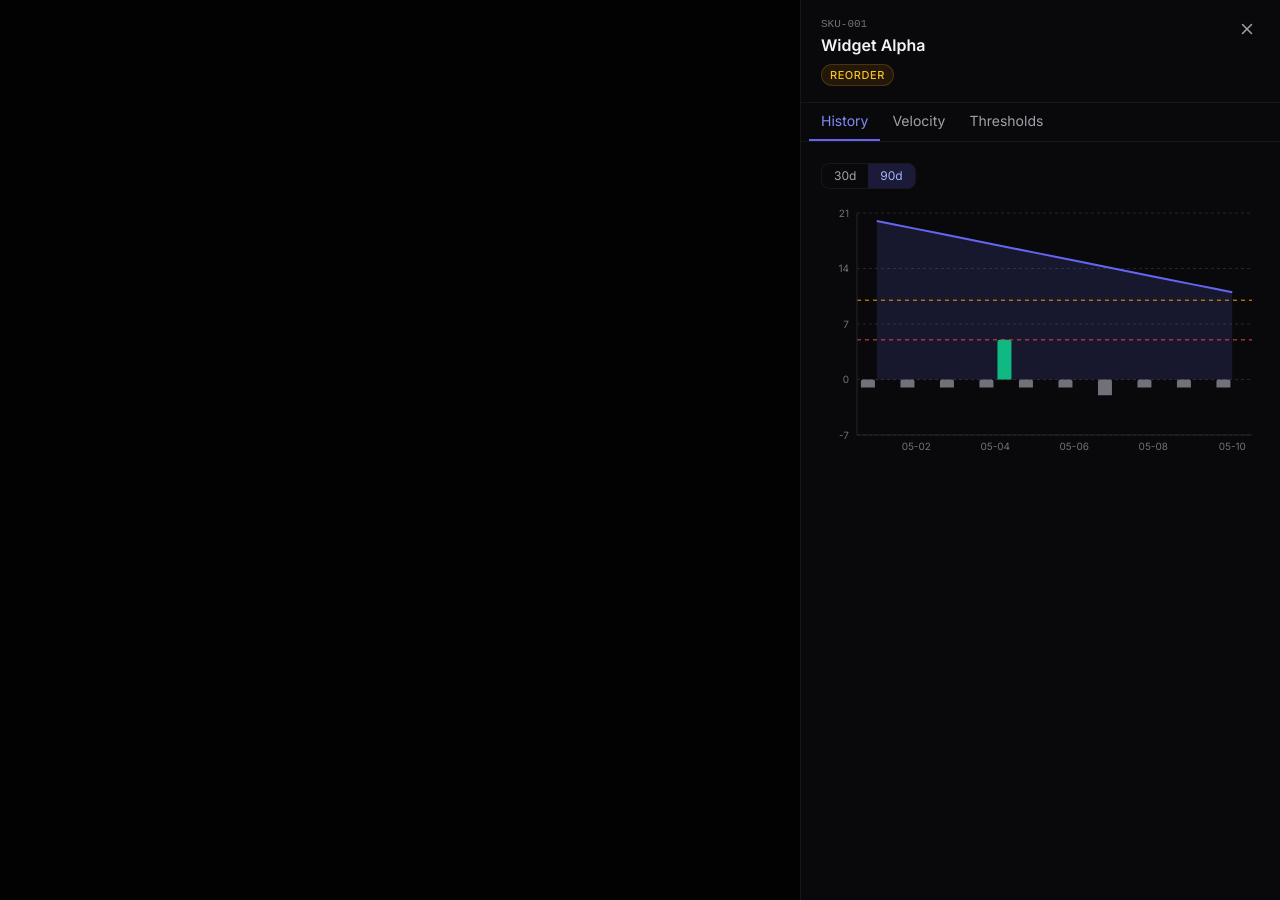
Test: ProductDrawer › Thresholds tab › shows inline error when reorder > max and disables save
The image size is (1280, 900).
Click the tab "Thresholds" at (1006, 122), box [957,103,1055,141]
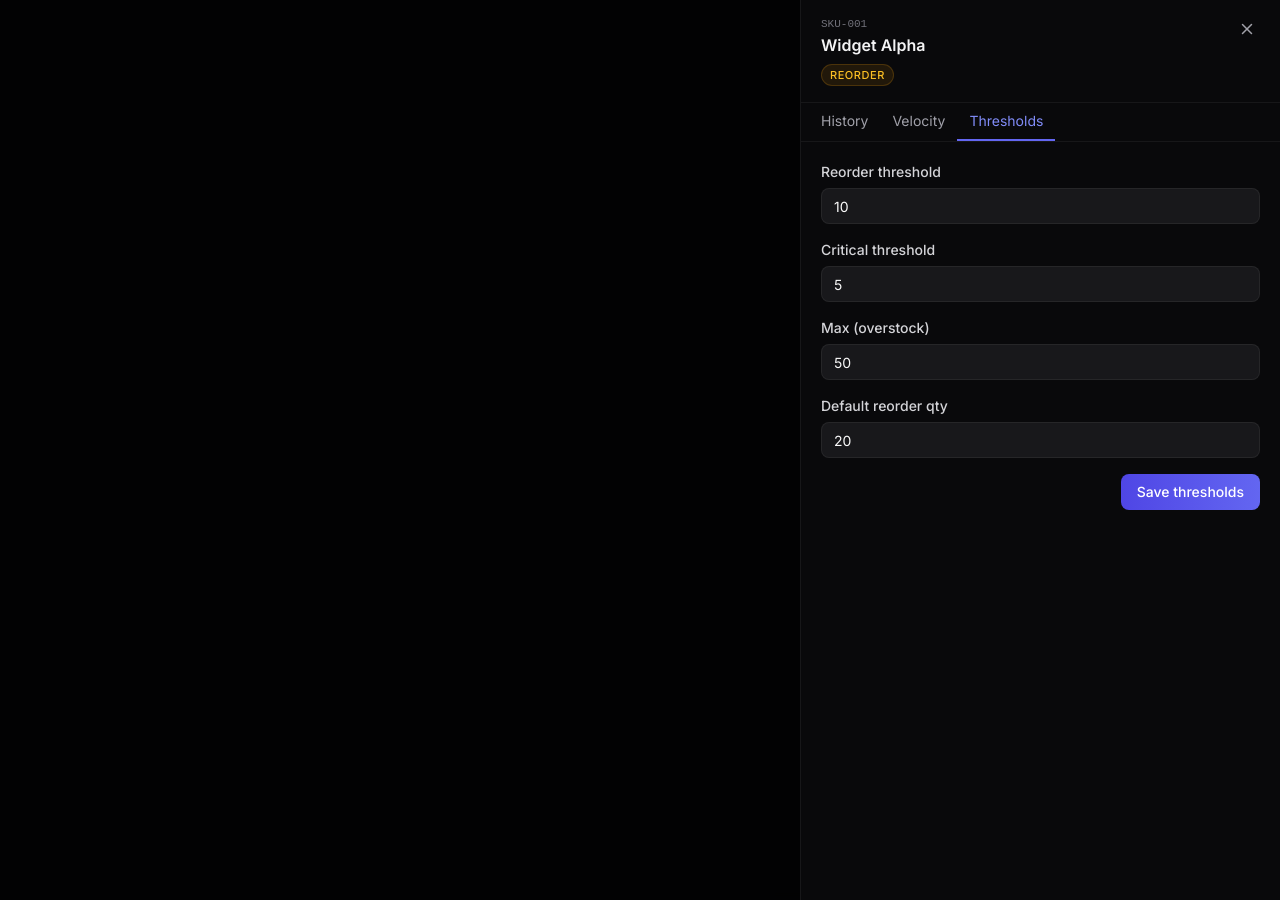
Expected: the number field with test id "threshold-reorder" holds "10"
Replace the text in the number field with test id "threshold-reorder" with "999" at (1040, 206), box [821,188,1260,224]
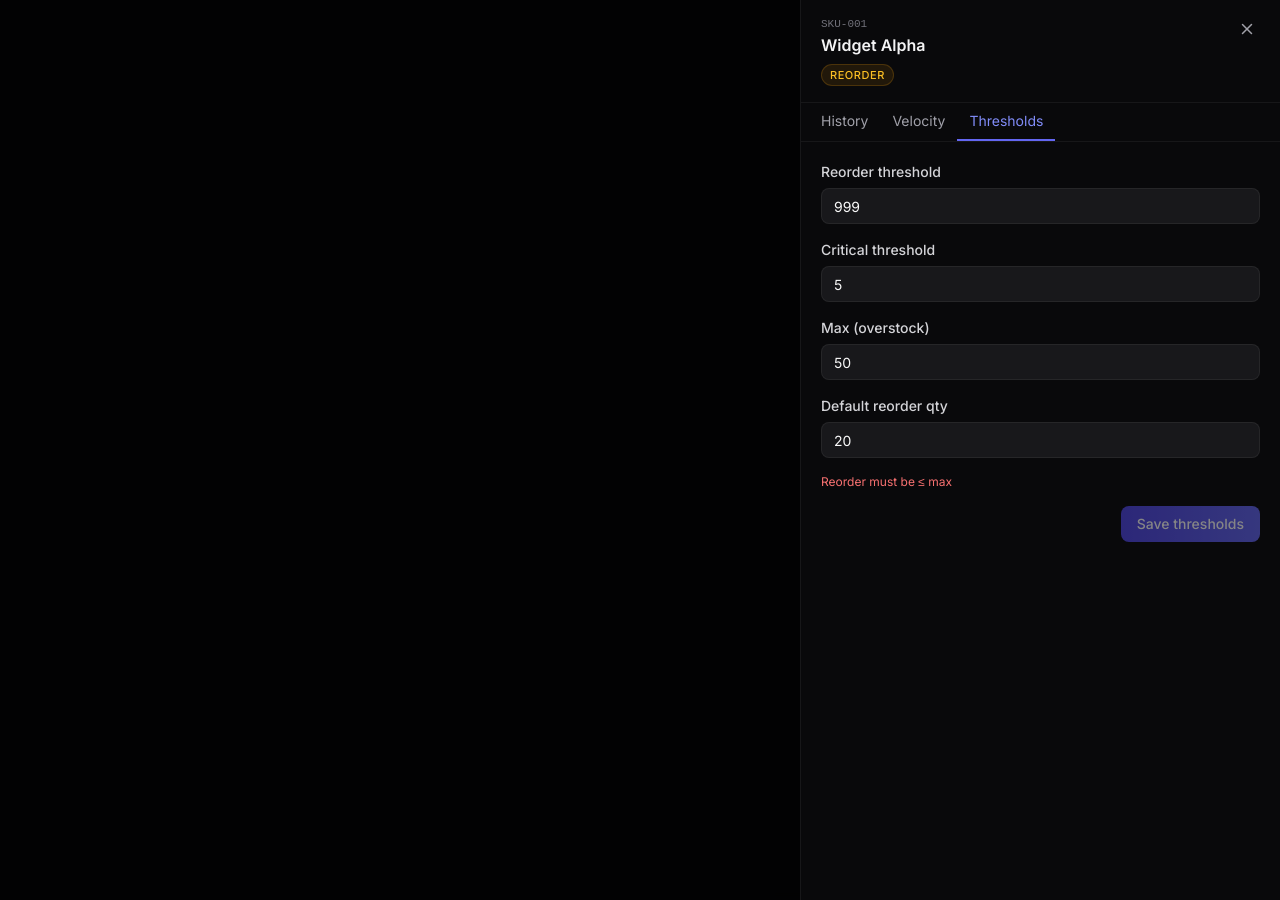
Expected: the text with test id "threshold-error" reads "Reorder must be ≤ max", [821,474,952,489]
Expected: the button with test id "threshold-save" is disabled, [1121,506,1260,542]
